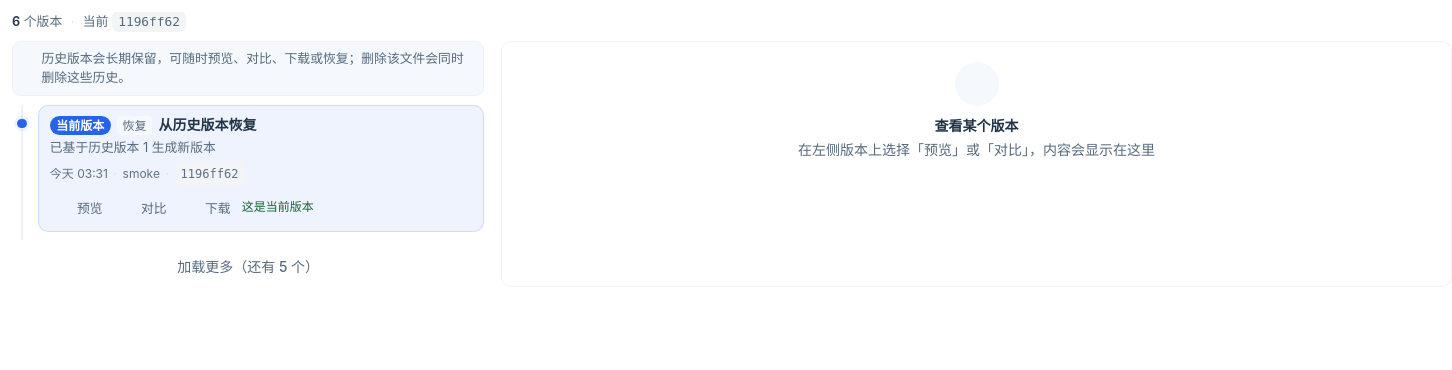
Test case: VersionHistory.vue › loads older history with a cursor and appends the page
Expected: the number of list items with class "history-row" is 1, [12,105,484,240]
Click the button "加载更多（还有 5 个）": (248, 266) [164,248,333,284]
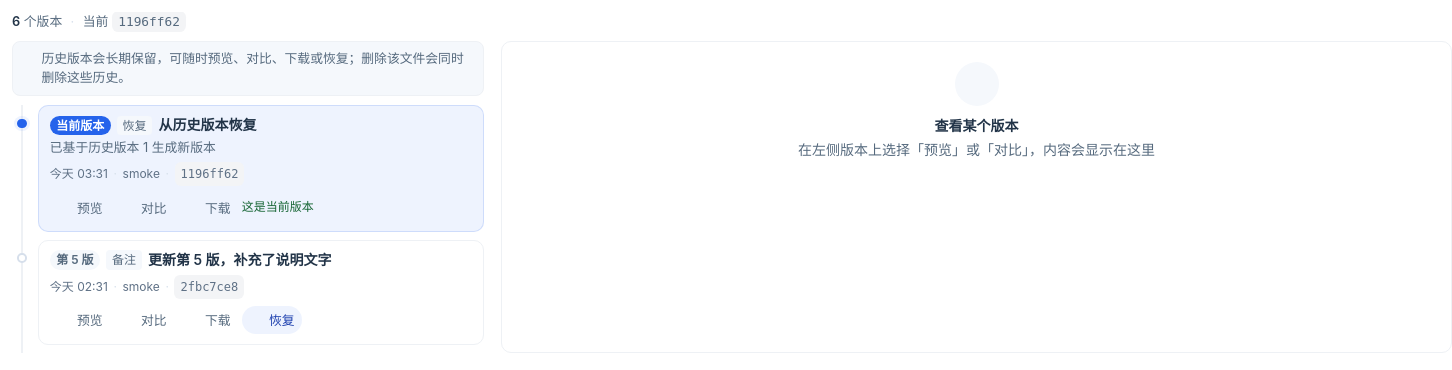
Expected: the number of list items with class "history-row" is 2, [12,105,484,240]; [12,240,484,353]
Expected: the element with class "history-more" is gone
